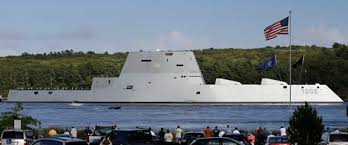tau_muctieu: (6, 44, 343, 106)
